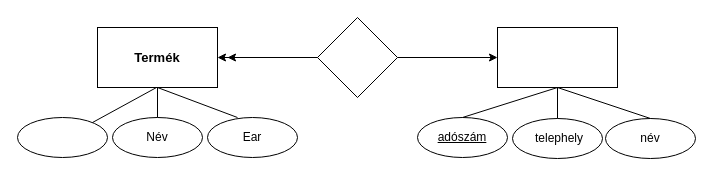
This 713x176 diagram has some shape labels left out. The centre of each missing label's shape, as x and y in pixels:
"Gyártó" belongs at point (557, 57).
"T-GY" belongs at point (357, 57).
"Tkód" belongs at point (62, 137).
